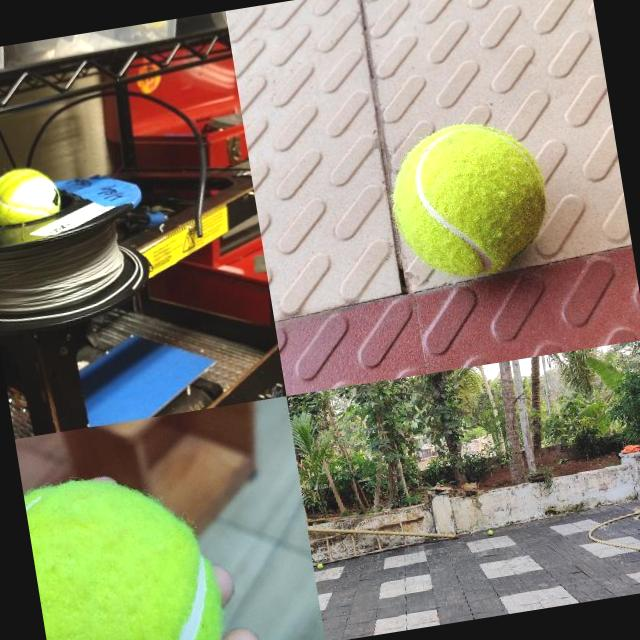tennis-ball: (23, 461, 231, 640), (383, 113, 557, 285), (0, 162, 62, 218), (316, 564, 323, 570), (488, 530, 494, 536)
